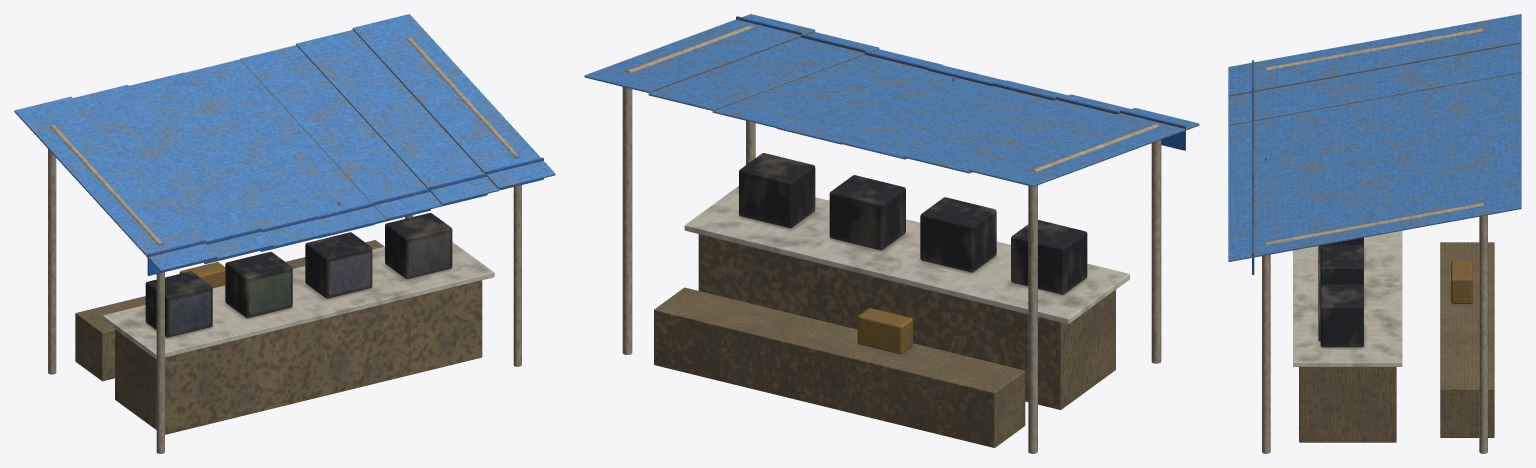
The model's file is bazar_stoisko_1.glb.
3 views of the same model, side by side, from view 1: azimuth 30°, elevation 25°; view 2: azimuth 150°, elevation 25°; view 3: azimuth 270°, elevation 25° (orthographic). The views are drawn at different scales.
Parts seen in each view (by area): view 1: Stoisko; view 2: Stoisko; view 3: Stoisko.
Part boxes in pixels (x1=…): Stoisko: x1=14, y1=14, x2=555, y2=453; Stoisko: x1=584, y1=14, x2=1199, y2=453; Stoisko: x1=1228, y1=14, x2=1521, y2=453.
Size of the model in its own units: 4.21 by 2.58 by 2.7.
1 material, 1 textured.
